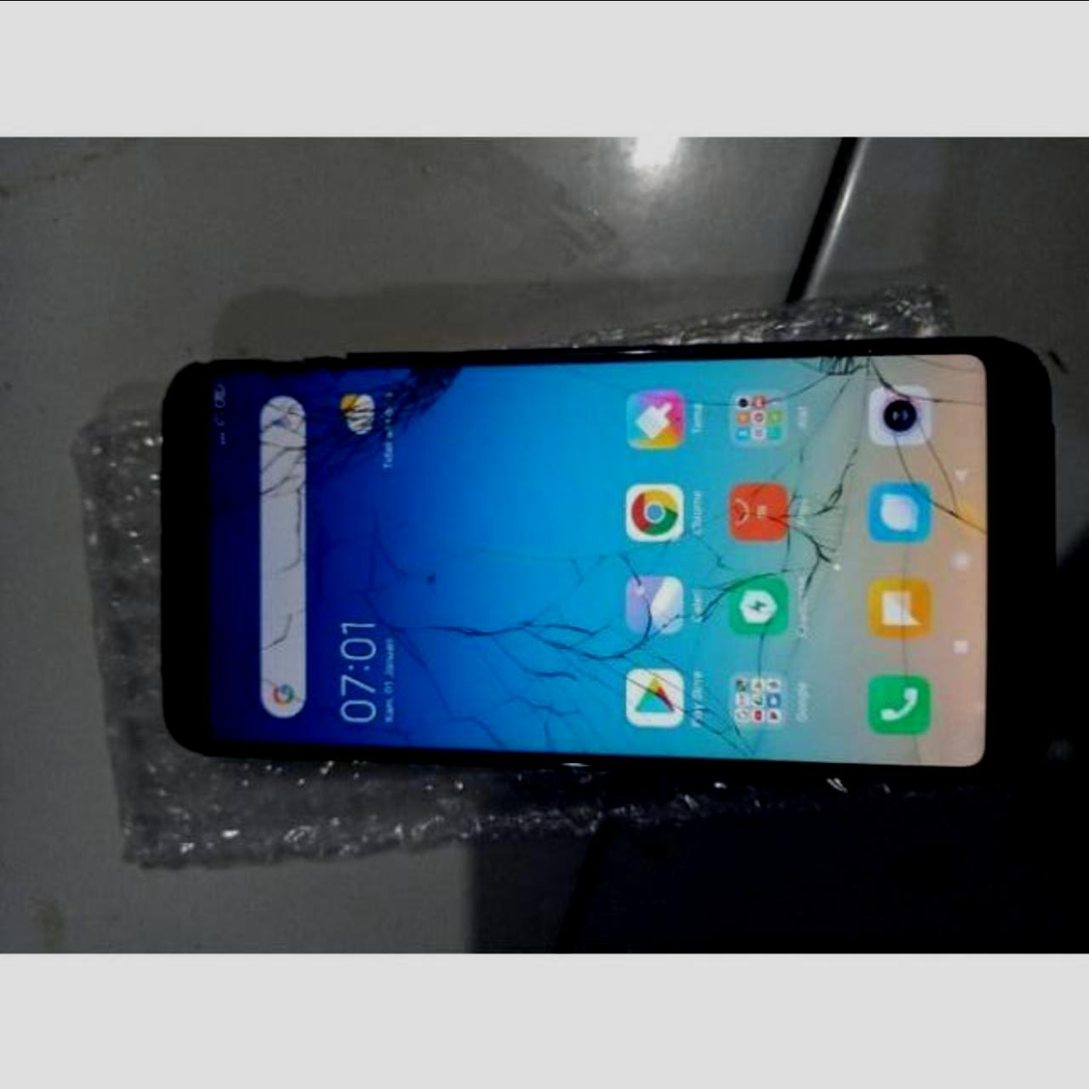phone: (168, 334, 1032, 756)
